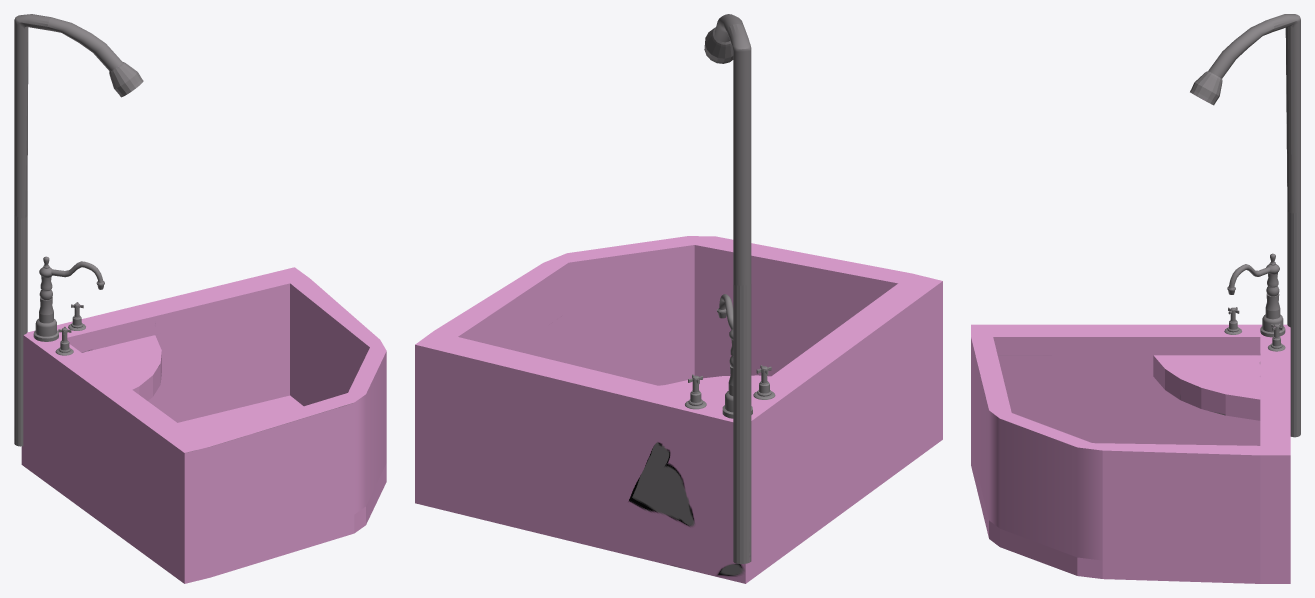
Rendered from baignoire_TEST2.fbx.
The picture shows the model from 3 angles, left to right: view 1: azimuth 30°, elevation 25°; view 2: azimuth 150°, elevation 25°; view 3: azimuth 270°, elevation 25°; orthographic projection. The views are drawn at different scales.
Parts seen in each view (by area): view 1: pCube2; view 2: pCube2; view 3: pCube2.
Part boxes in pixels (x1=…): pCube2: x1=14, y1=14, x2=386, y2=583; pCube2: x1=415, y1=14, x2=942, y2=583; pCube2: x1=971, y1=14, x2=1300, y2=583.
Bounding box in the file's own units: 492 × 761 × 515.
Materials: 1 (1 with a texture image).
